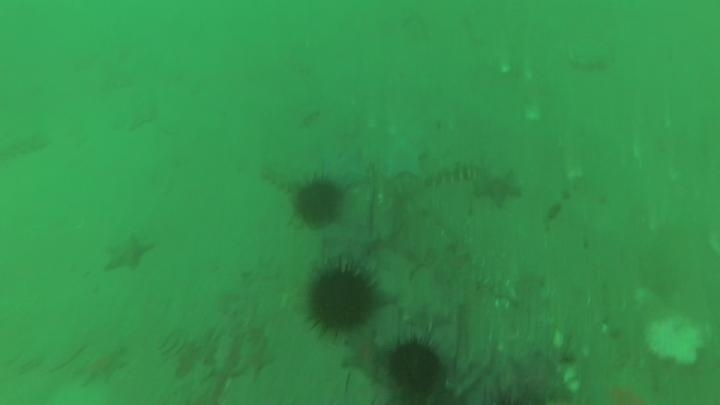echinus: (303, 259, 381, 337), (384, 335, 447, 399), (290, 174, 346, 230)
holothurian: (395, 288, 460, 333), (422, 157, 489, 188), (1, 128, 52, 162), (257, 160, 298, 195)
scallop: (643, 310, 708, 368), (566, 40, 616, 73)
starfish: (580, 360, 659, 404), (229, 332, 279, 383), (339, 330, 387, 383), (101, 231, 157, 275), (75, 342, 130, 386), (318, 147, 372, 191), (376, 136, 427, 181), (473, 167, 524, 211)
